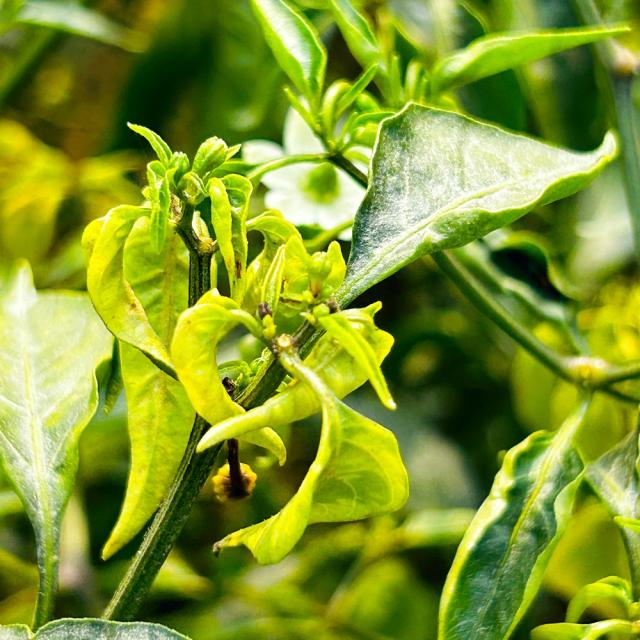Chilli_Leaf_Curl: (3, 1, 636, 637), (80, 121, 411, 566), (327, 99, 620, 312), (437, 387, 638, 638), (0, 257, 121, 631)
